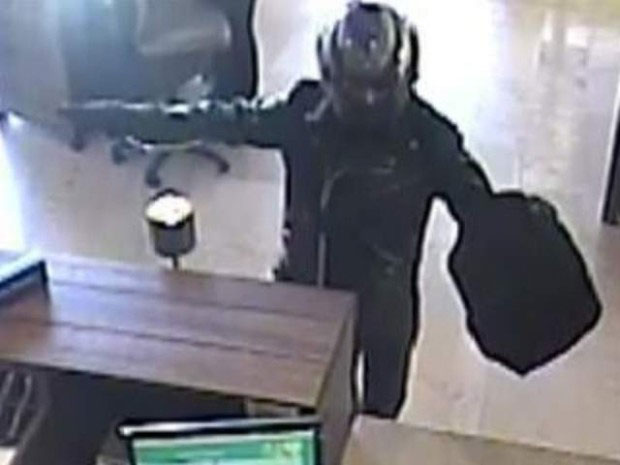helmet: (287, 2, 455, 135)
